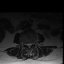CCS_normal: (28, 42, 30, 50)
LFS_stenosis: (32, 41, 33, 45)
LLS_normal: (30, 41, 32, 47)
RFS_stenosis: (24, 42, 26, 46)
RLS_normal: (26, 42, 28, 47)
